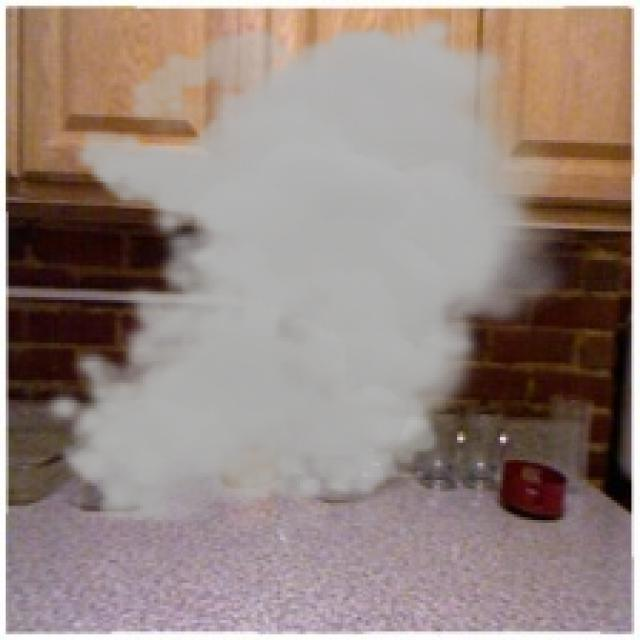Smoke: (40, 11, 580, 528)
